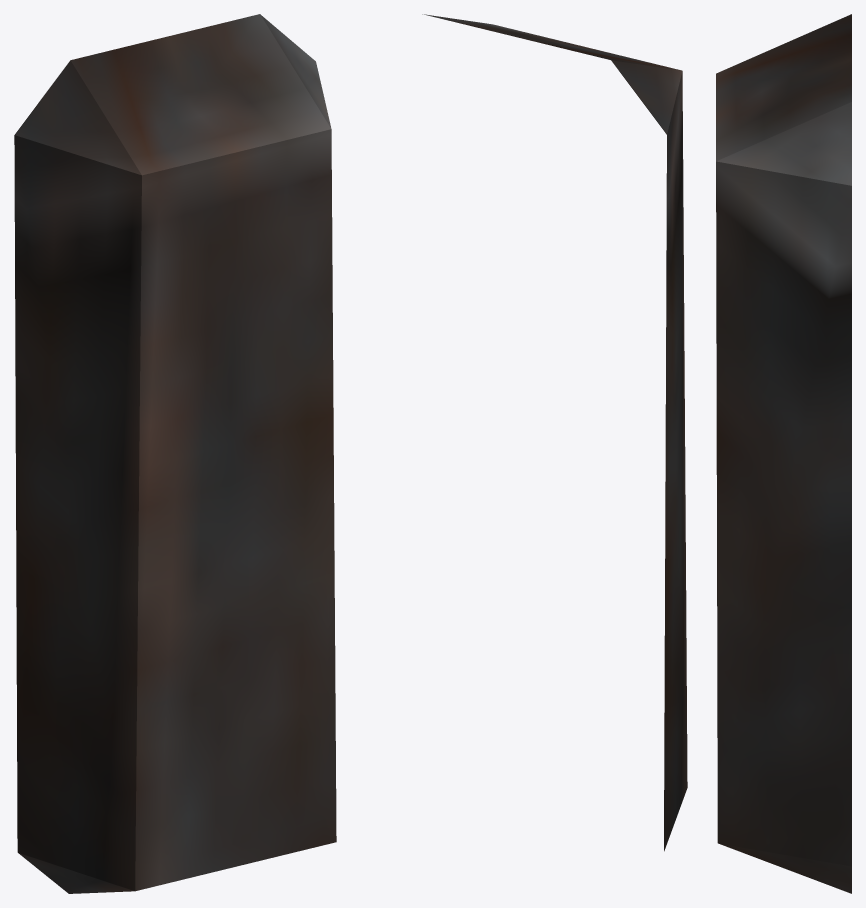
The model's file is grave_factory_door_lock_wall.glb.
3 views of the same model, side by side, from view 1: azimuth 30°, elevation 25°; view 2: azimuth 150°, elevation 25°; view 3: azimuth 270°, elevation 25° (orthographic). The views are drawn at different scales.
Parts seen in each view (by area): view 1: 02_door_lock_wall_part; view 2: 02_door_lock_wall_part; view 3: 02_door_lock_wall_part.
Boxes of the visible parts, bbox=[...] form: 02_door_lock_wall_part: bbox=[14, 14, 336, 893]; 02_door_lock_wall_part: bbox=[422, 14, 687, 851]; 02_door_lock_wall_part: bbox=[716, 14, 851, 893].
Bounding box in the file's own units: 0.3185 × 0.8411 × 0.1309.
1 material, 1 textured.
